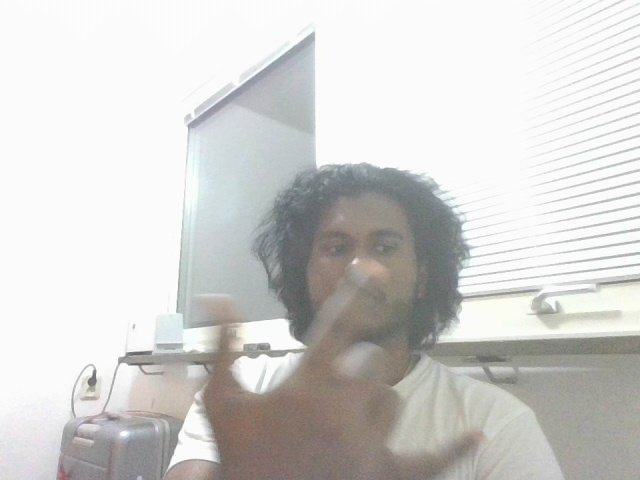I Love You: (190, 265, 510, 480)
